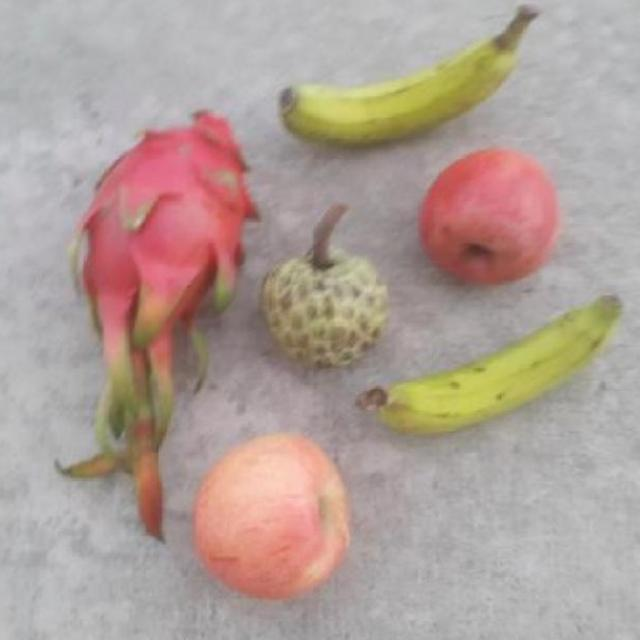apple: (417, 144, 567, 284)
banana: (274, 4, 536, 154), (366, 294, 621, 434)
dragon fruit: (61, 105, 266, 358)
sugar apple: (256, 238, 391, 372)
